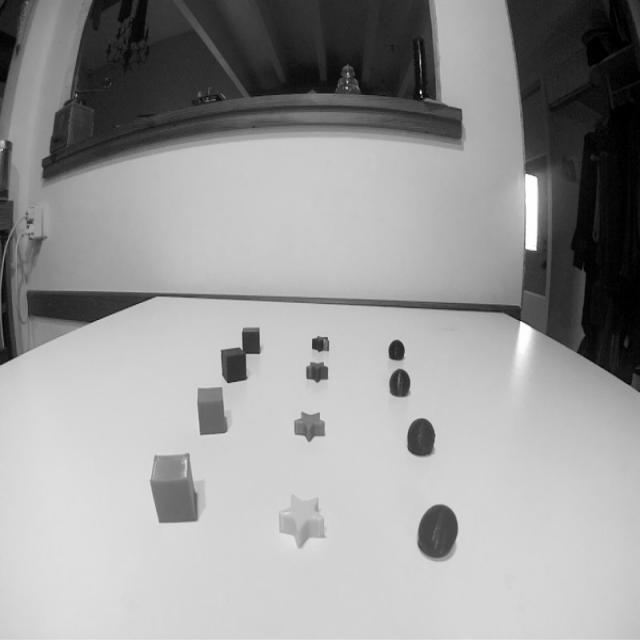ball: (414, 500, 460, 566), (406, 414, 436, 461), (387, 366, 414, 400), (386, 336, 407, 364)
cube: (146, 450, 201, 527), (195, 383, 229, 437), (220, 345, 248, 386), (239, 323, 263, 358)
star: (275, 490, 327, 550), (292, 407, 328, 445), (302, 358, 332, 387), (308, 333, 333, 353)
